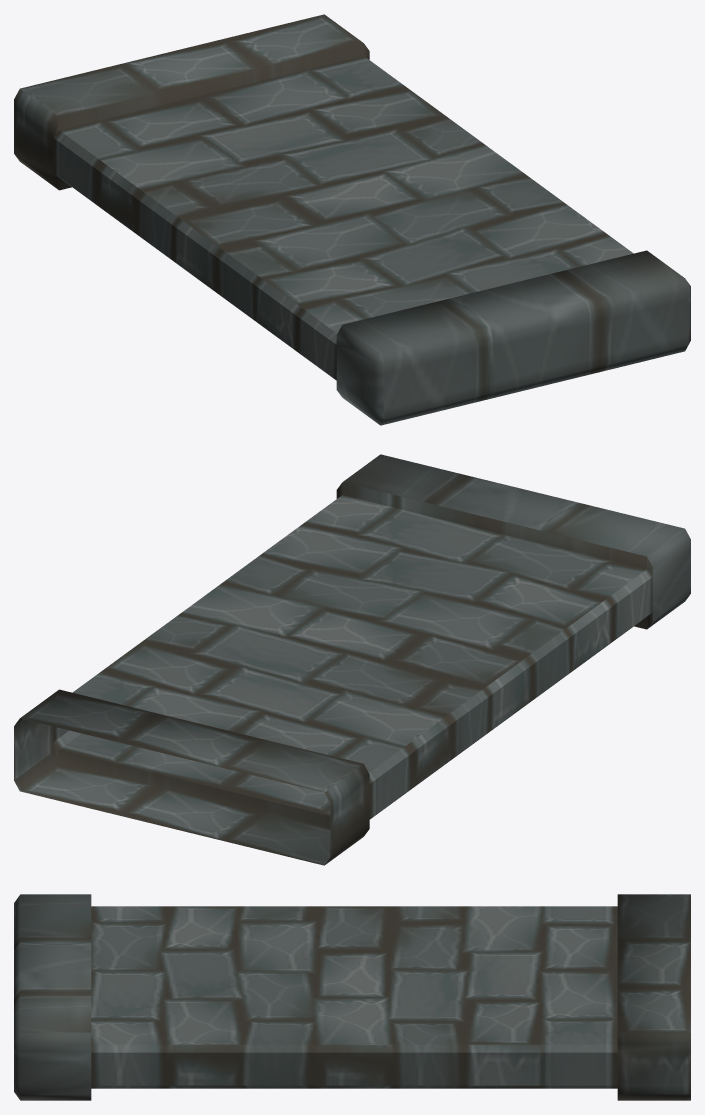
The model's file is StoneWall1.gltf.
3 renders of one model, top to bottom at view 1: azimuth 30°, elevation 25°; view 2: azimuth 150°, elevation 25°; view 3: azimuth 270°, elevation 25°, orthographic. The views are drawn at different scales.
Parts seen in each view (by area): view 1: StoneWall1; view 2: StoneWall1; view 3: StoneWall1.
Boxes of the visible parts, x1,y1,x2,y2 form: StoneWall1: (14, 14, 690, 425); StoneWall1: (14, 454, 690, 865); StoneWall1: (14, 894, 690, 1100).
Size of the model in its own units: 1 by 0.2206 by 1.99.
1 material, 1 textured.
